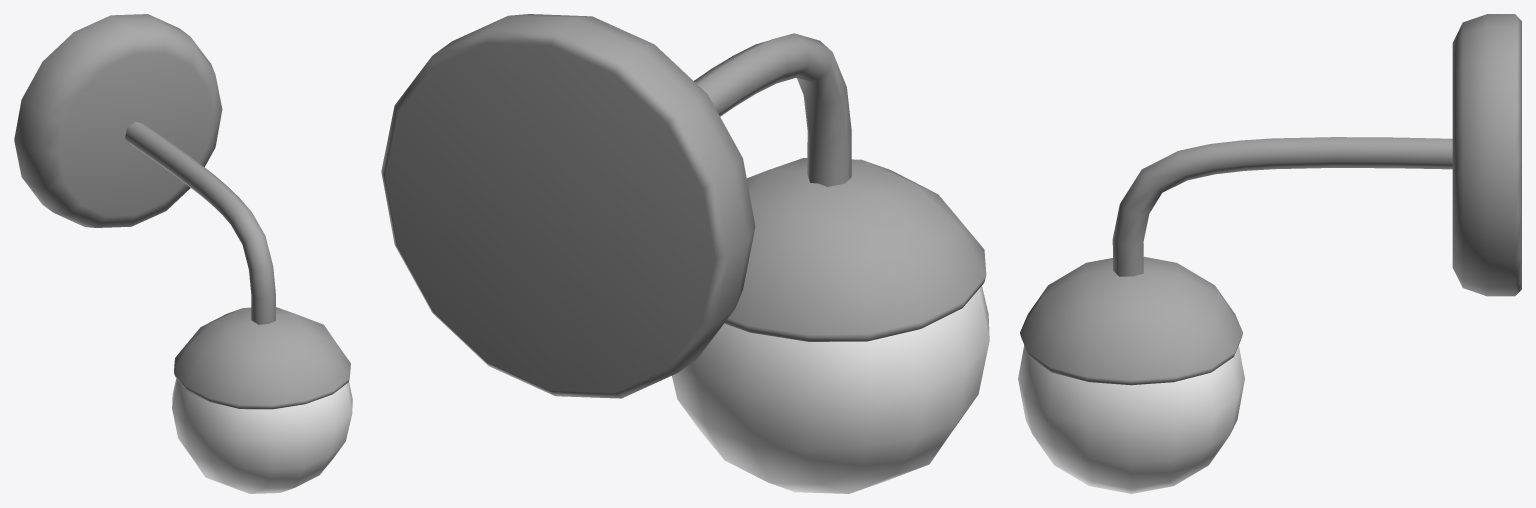
Rendered from Lamp_4.glb.
3 renders of one model, left to right at view 1: azimuth 30°, elevation 25°; view 2: azimuth 150°, elevation 25°; view 3: azimuth 270°, elevation 25°, orthographic. The views are drawn at different scales.
Visible parts, largest first — view 1: Wall_Lamp_2; view 2: Wall_Lamp_2; view 3: Wall_Lamp_2.
Part boxes in pixels (bbox=[...]): Wall_Lamp_2: bbox=[14, 14, 352, 493]; Wall_Lamp_2: bbox=[381, 14, 989, 493]; Wall_Lamp_2: bbox=[1018, 14, 1521, 493].
Bounding box in the file's own units: 0.5391 × 0.956 × 0.9604.
Materials: 2 (1 with a texture image).
